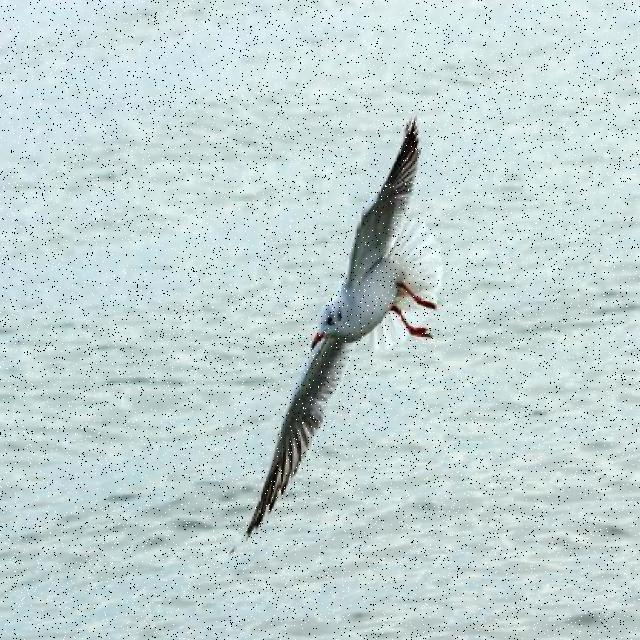bird: (229, 113, 443, 558)
